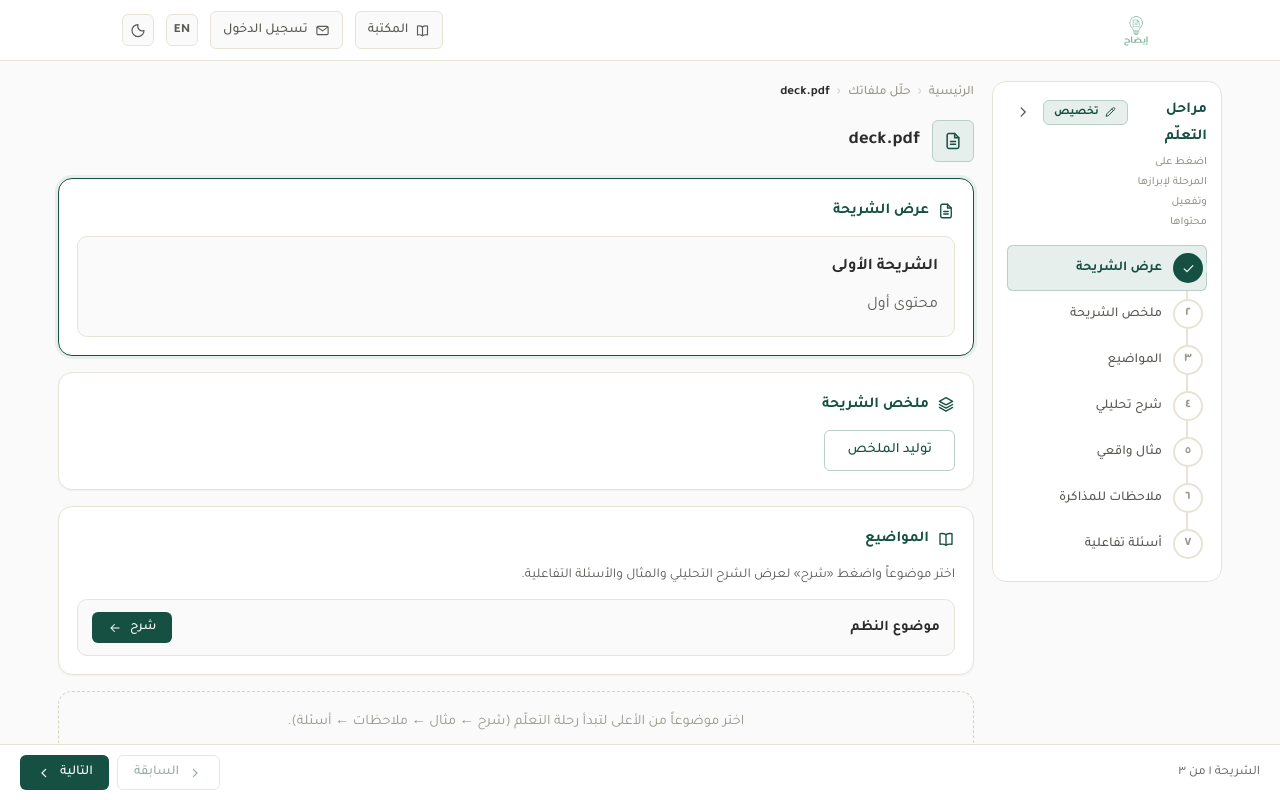
Test: generating the quiz shows questions and grades an answer
This screenshot has width=1280, height=800.
Click the button with aria-label "شرح موضوع النظم".
click(132, 628)  # box top-left (92, 612), bottom-right (172, 643)
(page scrolled)
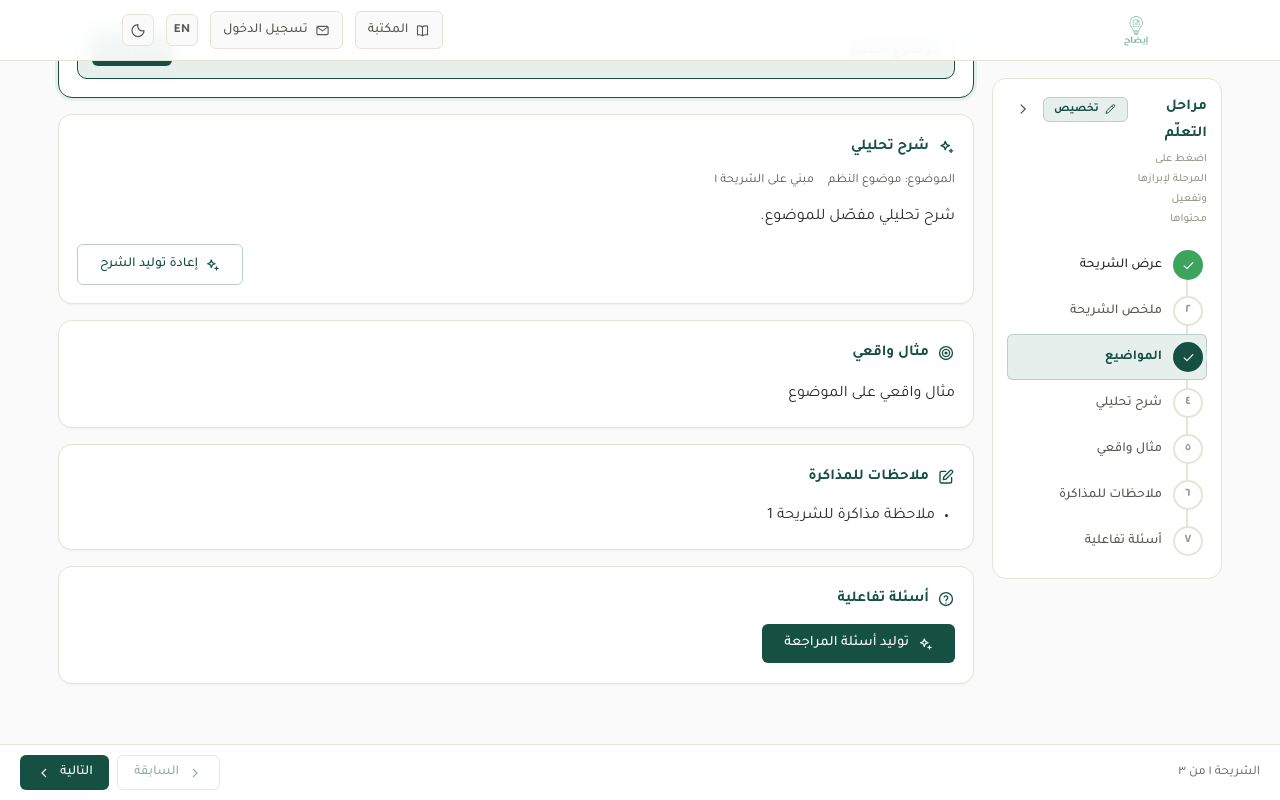
Expected: the text "مثال واقعي على الموضوع" is shown, top-left (788, 386), bottom-right (955, 402)
Click the button "توليد أسئلة المراجعة".
click(859, 644)  # box top-left (762, 624), bottom-right (955, 663)
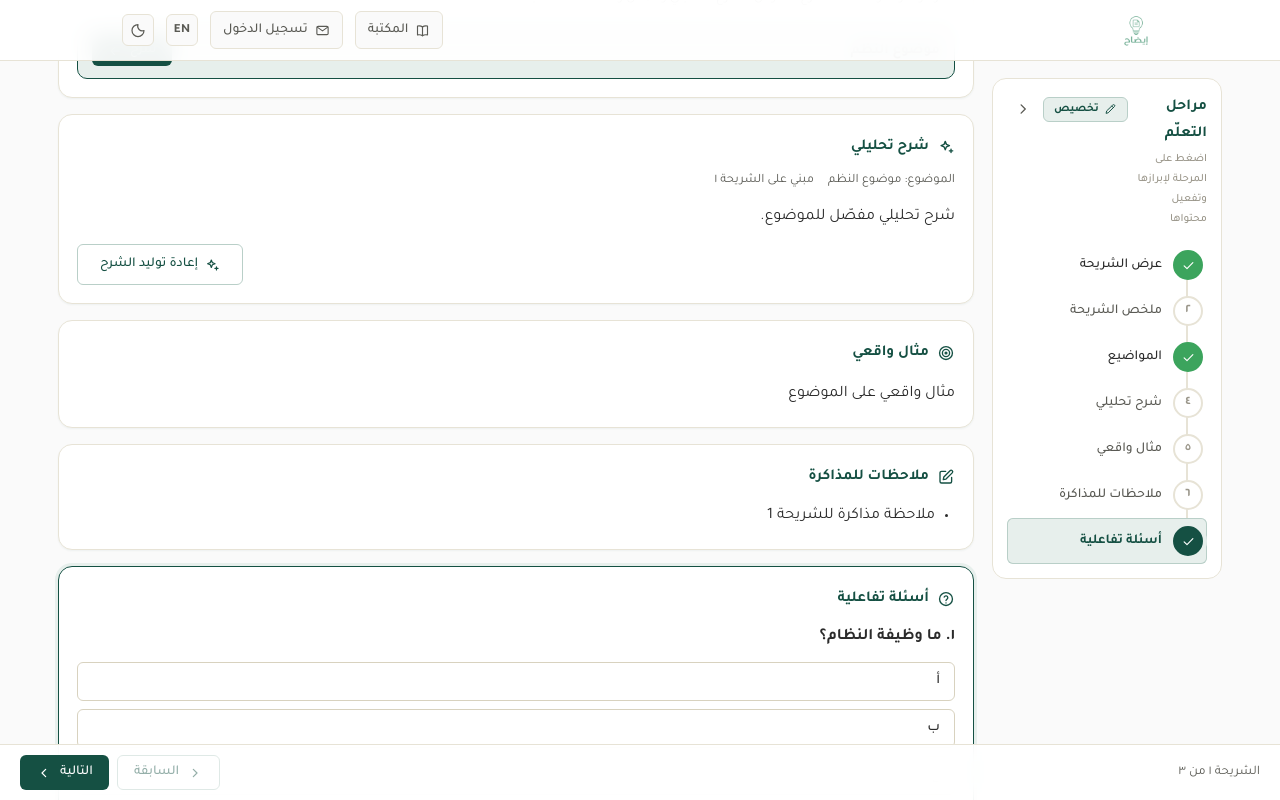
Expected: the text "١. ما وظيفة النظام؟" is shown, top-left (820, 629), bottom-right (955, 645)
Click the button "ب".
click(934, 728)  # box top-left (77, 709), bottom-right (955, 748)
(page scrolled)
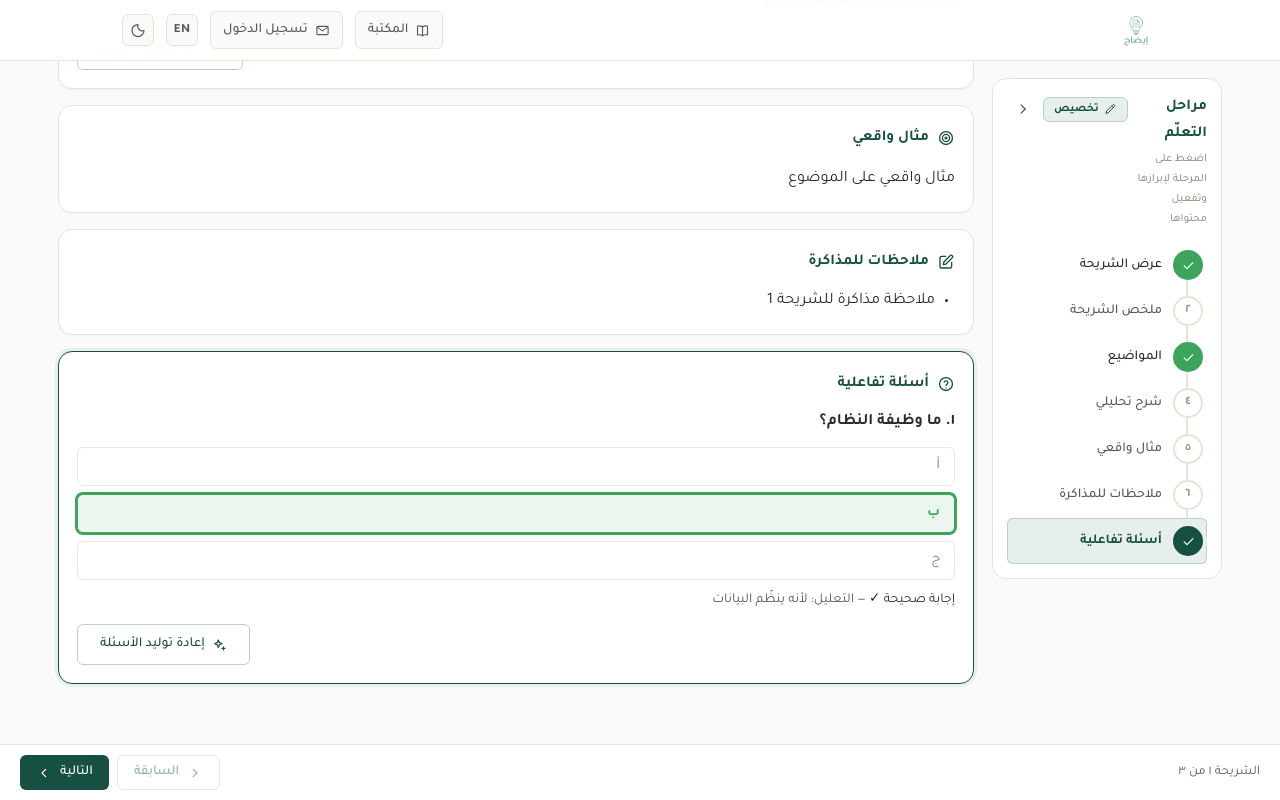
Expected: the text "إجابة صحيحة ✓ — التعليل: لأنه ينظّم البيانات" is shown, top-left (712, 593), bottom-right (955, 607)
